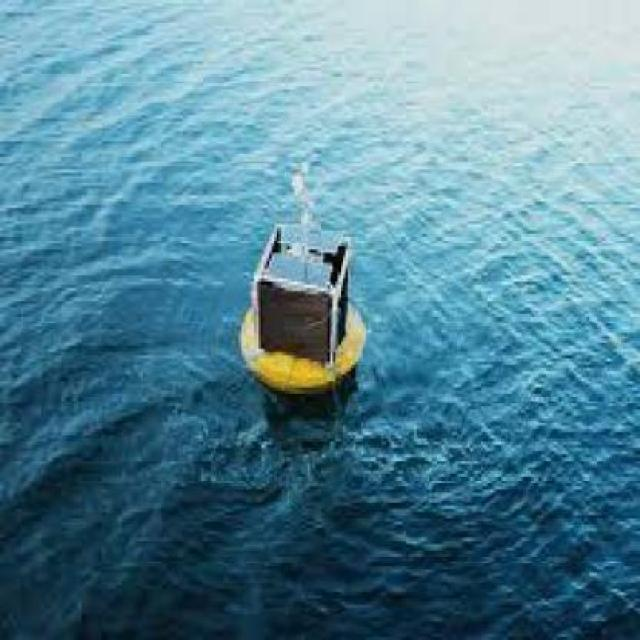buoy: (229, 145, 382, 417)
